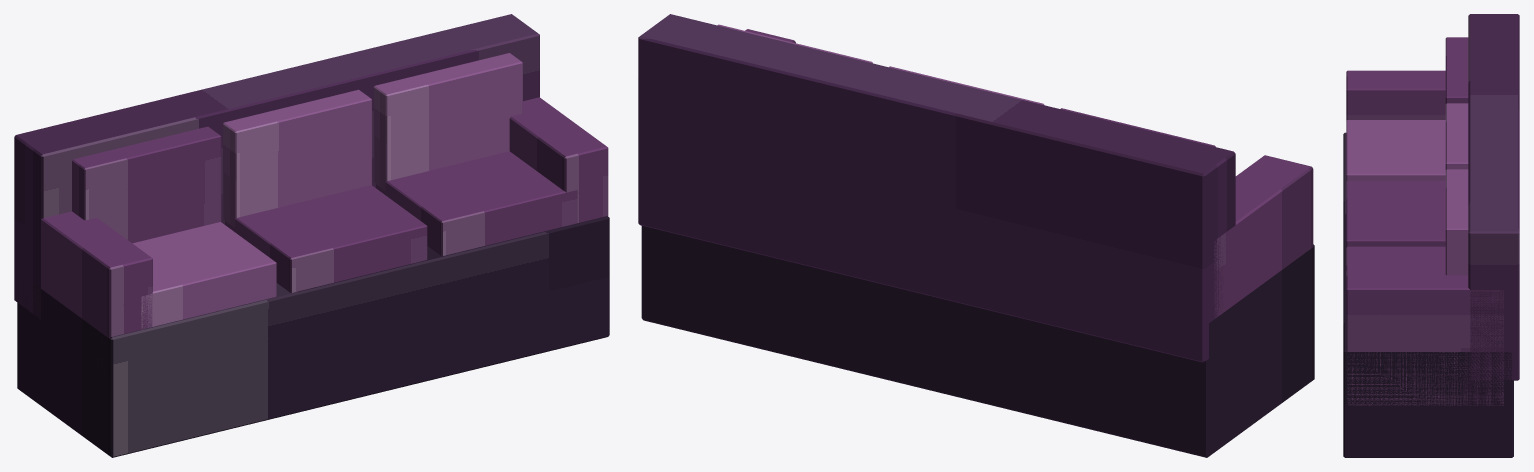
Rendered from lounge_couch_violet_wide.glb.
3 views of the same model, side by side, from view 1: azimuth 30°, elevation 25°; view 2: azimuth 150°, elevation 25°; view 3: azimuth 270°, elevation 25° (orthographic). The views are drawn at different scales.
Visible parts, largest first — view 1: CouchBase, CouchBack, BackCushion_2, BackCushion_3, SeatCushion_2, BackCushion_1, SeatCushion_3, CouchArm_L, SeatCushion_1, CouchArm_R; view 2: CouchBack, CouchBase, CouchArm_L; view 3: CouchBack, CouchBase, CouchArm_R, SeatCushion_2, SeatCushion_1, CouchArm_L, BackCushion_3, SeatCushion_3, BackCushion_1, BackCushion_2.
Boxes of the visible parts, box(x1,y1,x2,y2) form: CouchBase: box(17, 216, 609, 457); CouchBack: box(14, 14, 539, 319); BackCushion_2: box(223, 89, 371, 227); BackCushion_3: box(373, 53, 522, 190); SeatCushion_2: box(225, 185, 427, 292); BackCushion_1: box(72, 126, 221, 243); SeatCushion_3: box(376, 151, 577, 255); CouchArm_L: box(41, 211, 152, 338); SeatCushion_1: box(132, 222, 276, 328); CouchArm_R: box(509, 97, 608, 222); CouchBack: box(638, 14, 1235, 362); CouchBase: box(641, 226, 1314, 457); CouchArm_L: box(1214, 155, 1313, 318); CouchBack: box(1468, 14, 1519, 380); CouchBase: box(1343, 132, 1513, 457); CouchArm_R: box(1346, 270, 1503, 405); SeatCushion_2: box(1346, 180, 1445, 247); SeatCushion_1: box(1346, 120, 1445, 180); CouchArm_L: box(1346, 70, 1445, 120); BackCushion_3: box(1445, 169, 1468, 275); SeatCushion_3: box(1346, 246, 1445, 270); BackCushion_1: box(1445, 37, 1468, 103); BackCushion_2: box(1445, 103, 1468, 169).
Size of the model in its own units: 1.82 by 0.91 by 0.62.
1 material, 1 textured.
